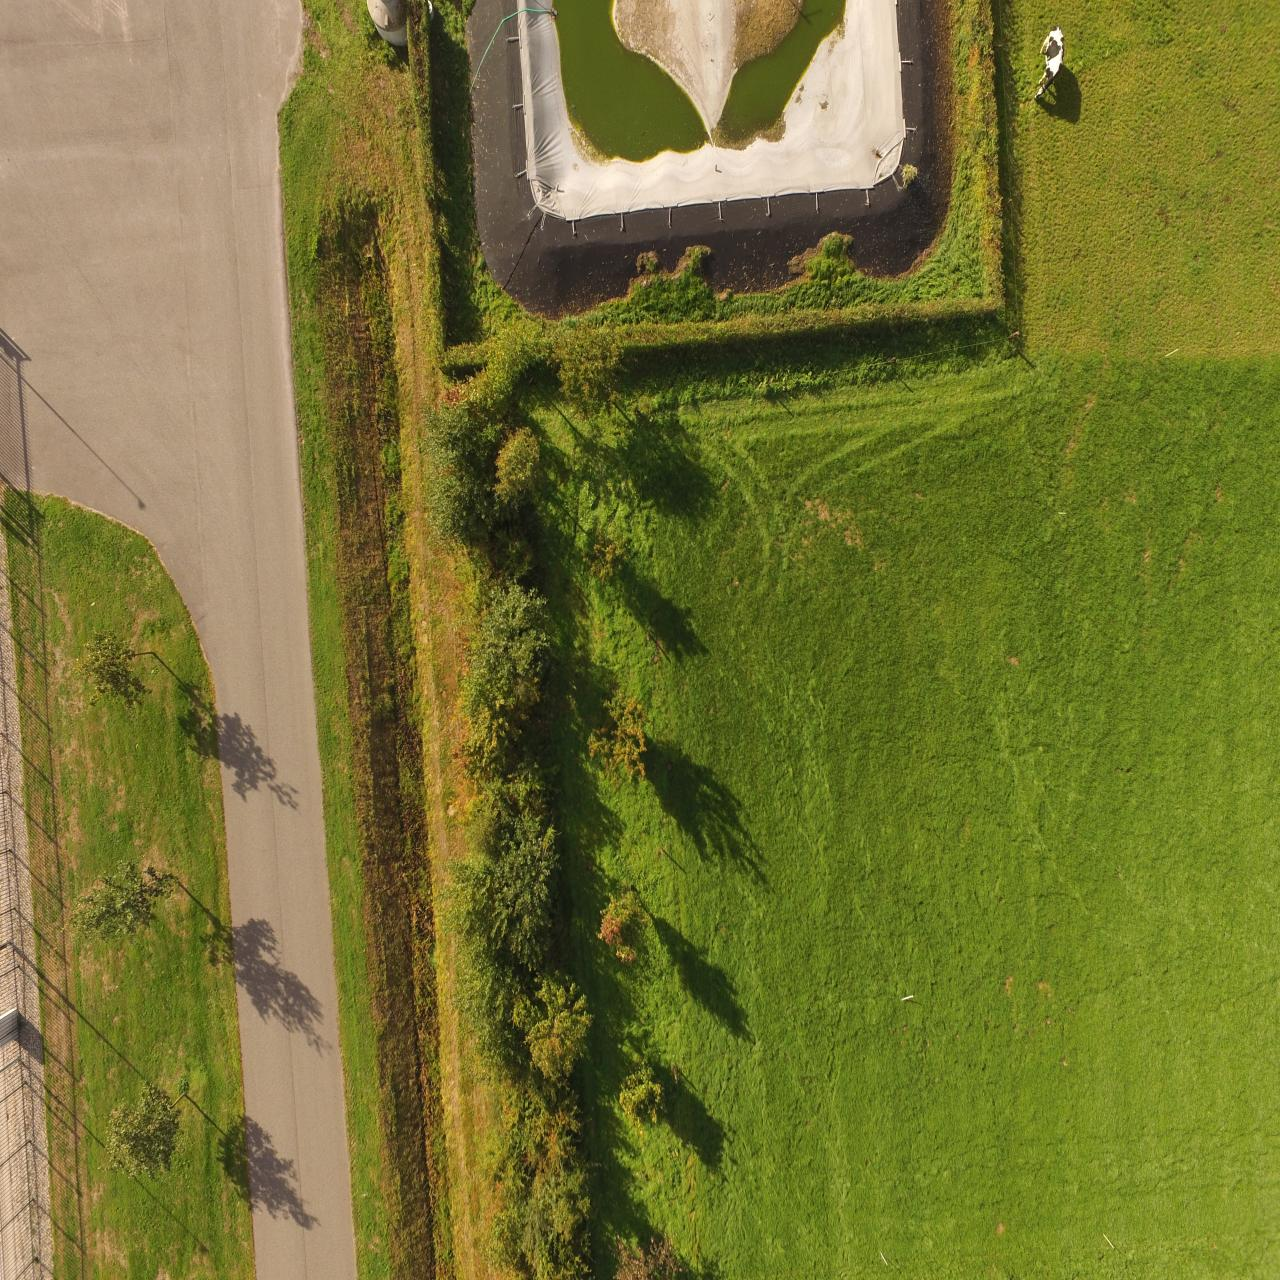cow: (1033, 21, 1069, 102)
